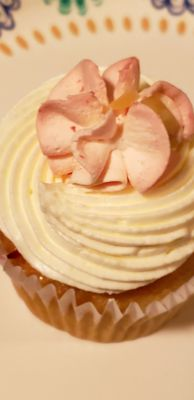sushi: (0, 51, 194, 294)
